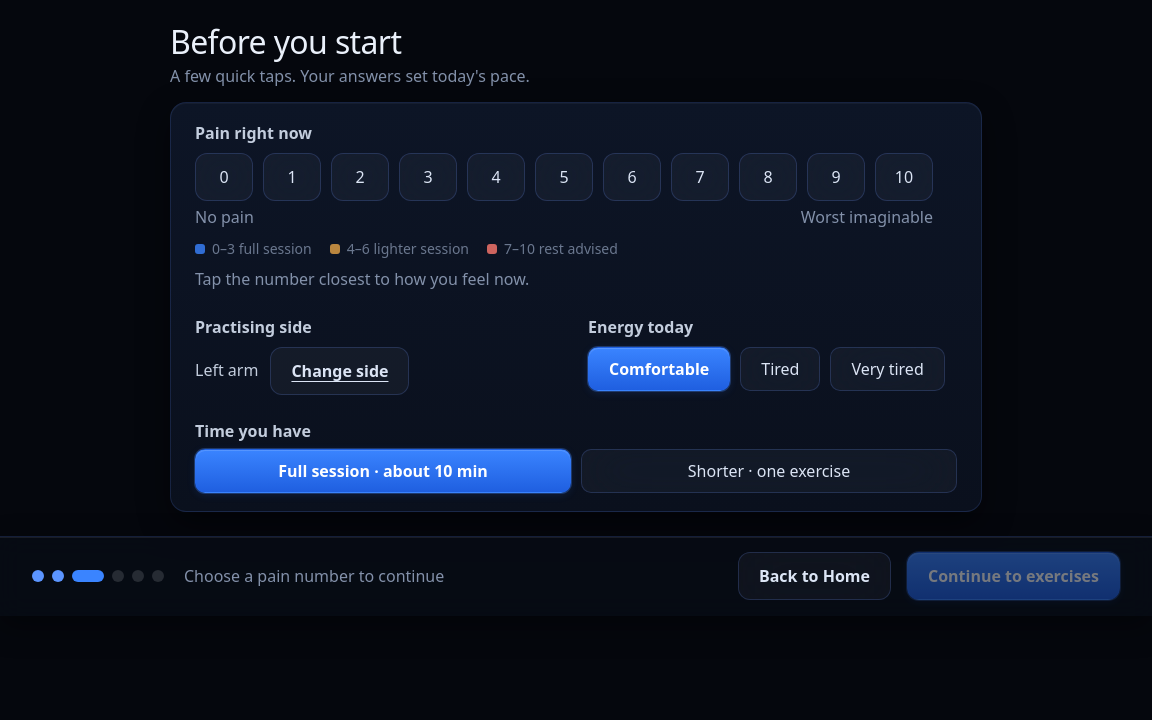
Scenario: offline: pain 8 is a rest day saved on this device, and the copy says the therapist has not been told
The width and height of the screenshot is (1152, 720).
What coordinates should you click on to do the following:
click the radio button labelled "8"
I would click on:
 (768, 176)
Its box is [739,152,797,200].
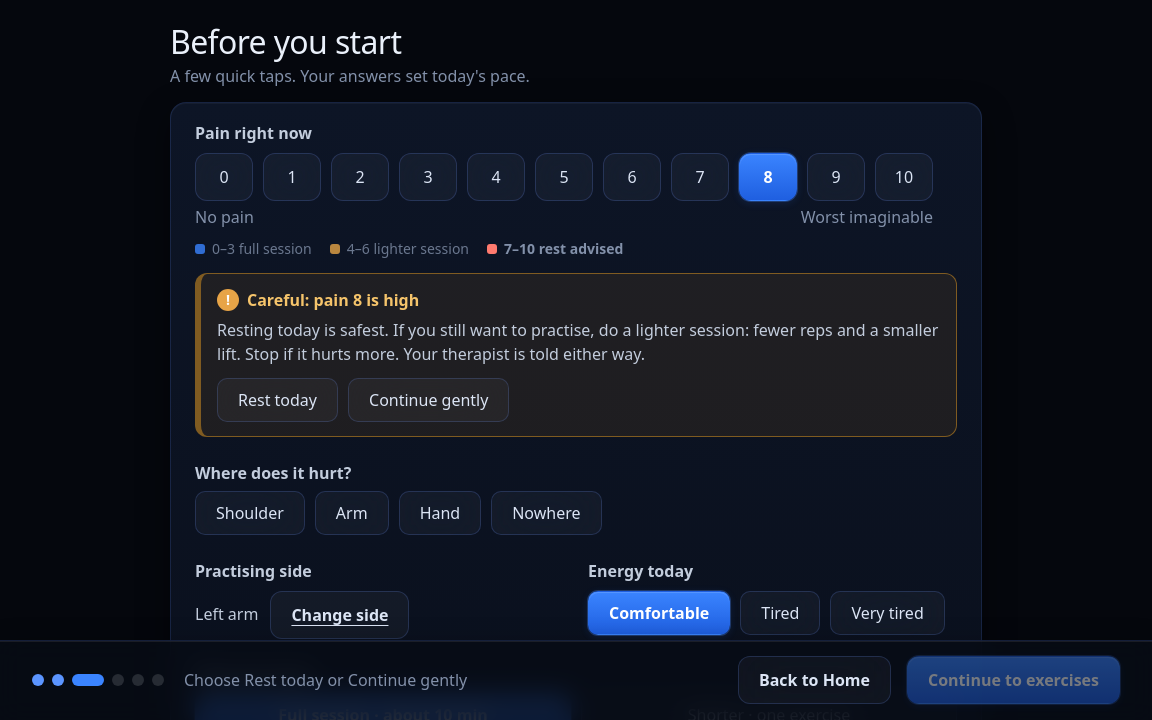
Expected: the button "Continue to exercises" is disabled, [907,656,1120,704]
What coordinates should you click on to do the following:
click the radio button labelled "Rest today"
I would click on:
 (278, 400)
Its box is [217,378,338,422].
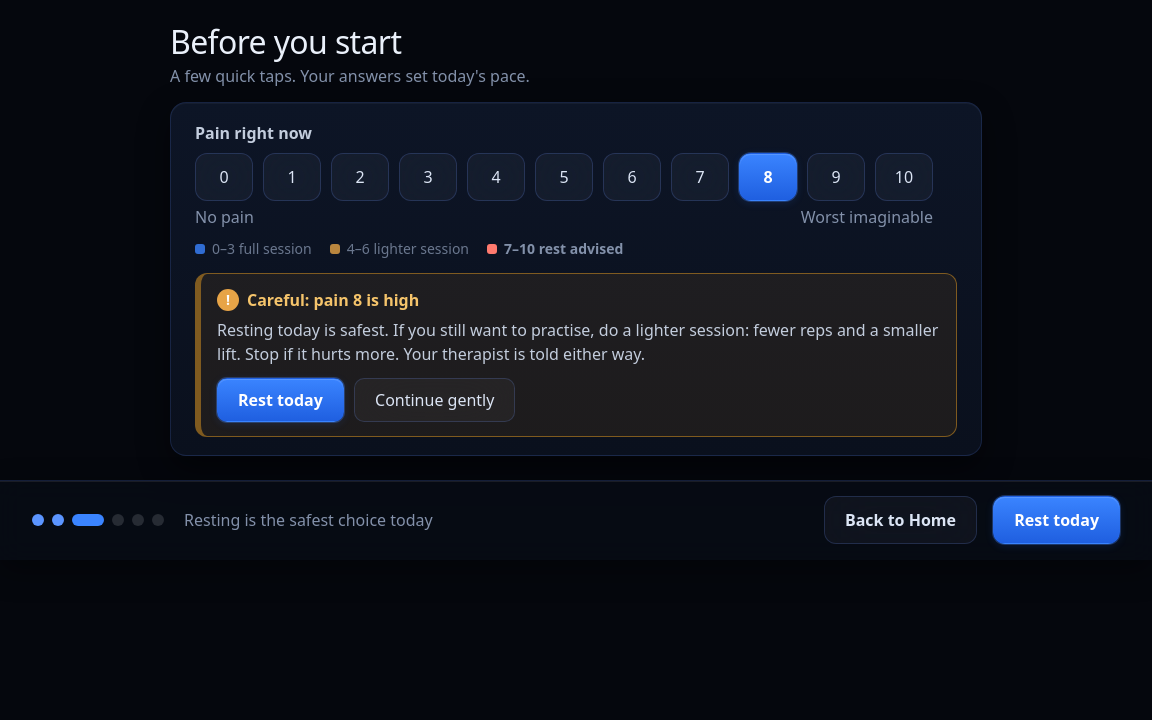
What coordinates should you click on to do the following:
click the button "Rest today"
I would click on:
 (1057, 520)
Its box is [993,496,1120,544].
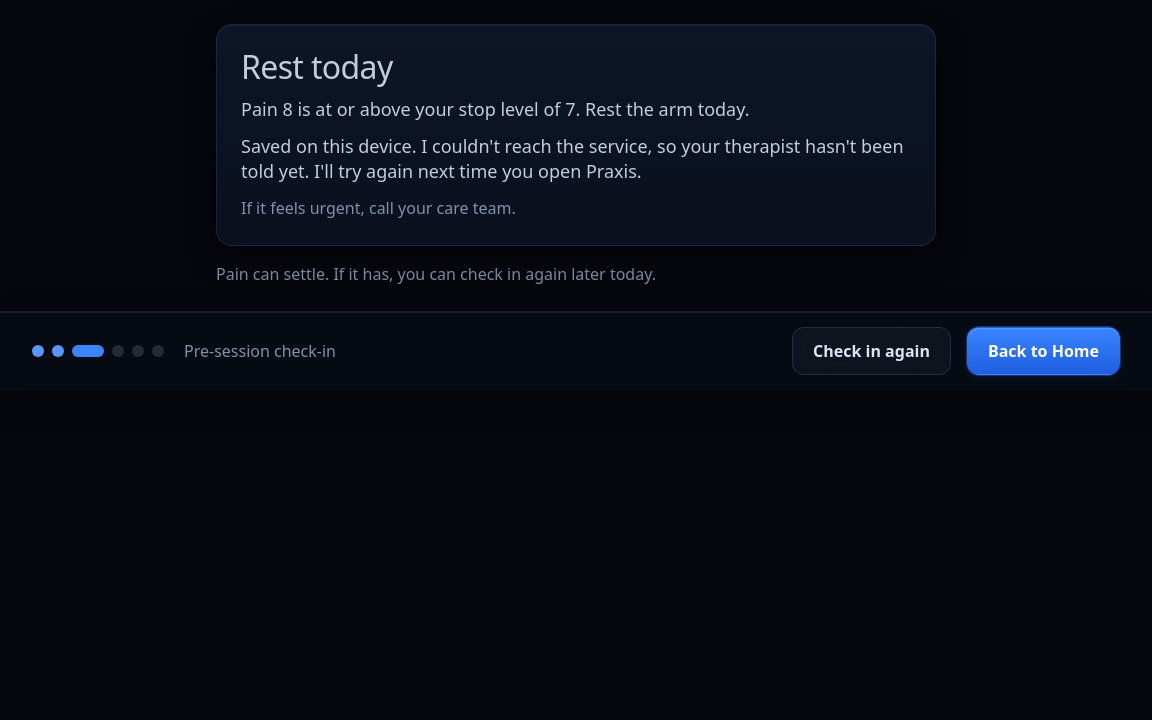
Expected: the heading "Rest today" is shown, [241,45,393,88]
Expected: the text "couldn't reach the service, so your therapist hasn't been told yet" is shown, [241,134,904,183]
